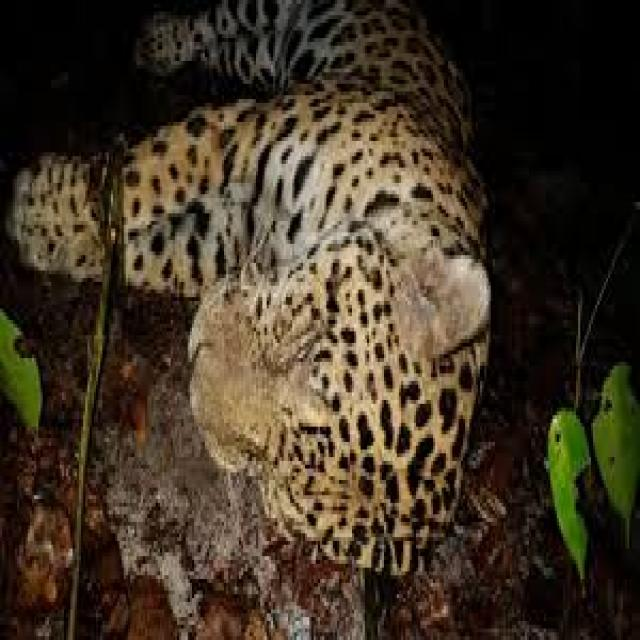Jaguar: (156, 23, 503, 537)
